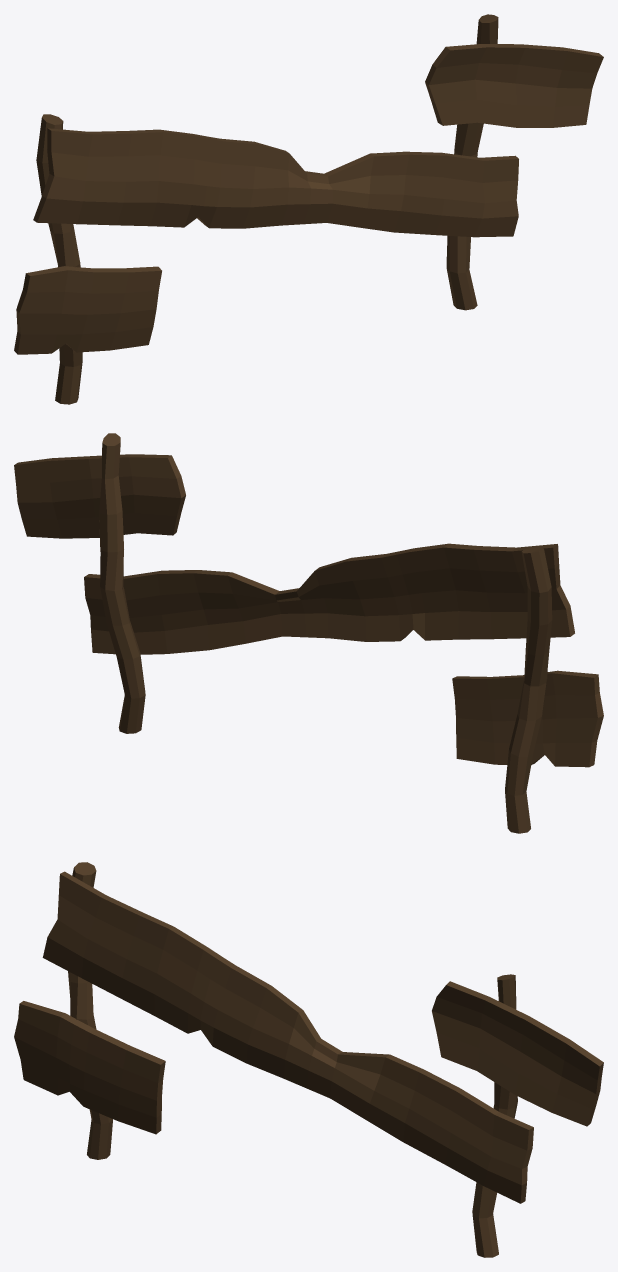
Rendered from fence.fbx.
3 renders of one model, top to bottom at view 1: azimuth 30°, elevation 25°; view 2: azimuth 150°, elevation 25°; view 3: azimuth 330°, elevation 25°, orthographic.
Visible parts, largest first — view 1: fence; view 2: fence; view 3: fence.
Part boxes in pixels (<box>): fence: <box>14,14,603,404</box>; fence: <box>14,433,603,833</box>; fence: <box>14,862,603,1257</box>.
Size of the model in its own units: 148 by 68.97 by 13.94.
